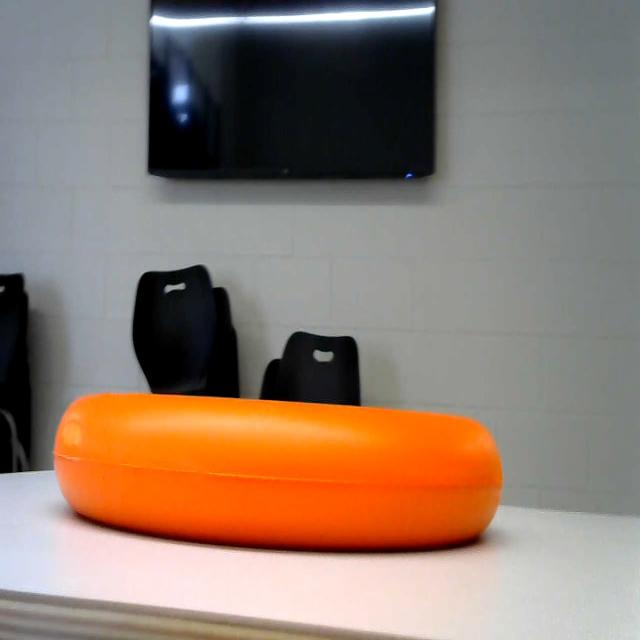note: (44, 369, 524, 574)
